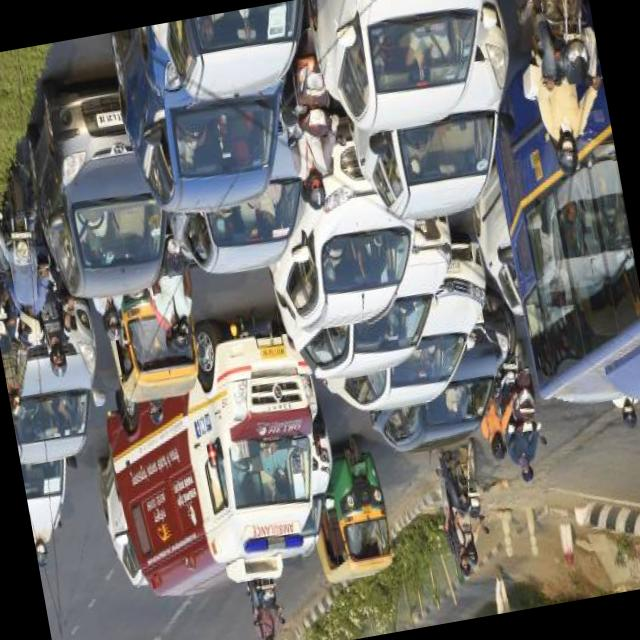ambulance: (110, 312, 350, 603), (228, 492, 318, 571)
